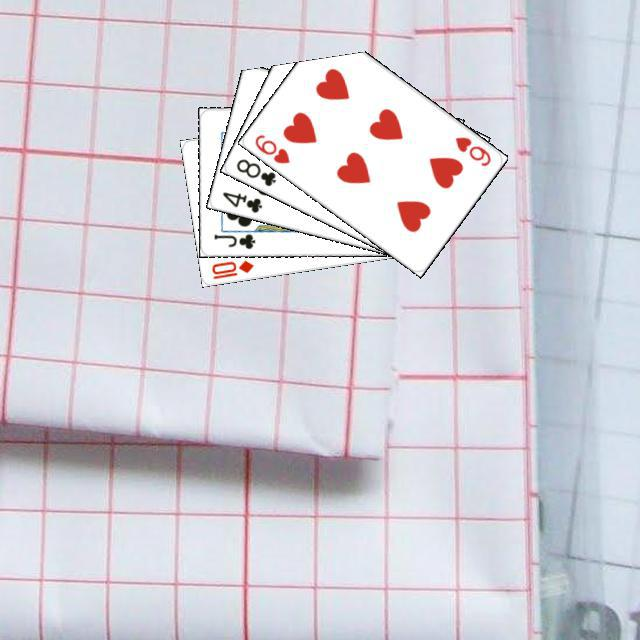10d: (207, 255, 255, 280)
4c: (217, 187, 264, 214)
6h: (249, 129, 291, 166), (450, 132, 493, 168)
8c: (231, 154, 277, 188)
Jc: (209, 229, 257, 251)
